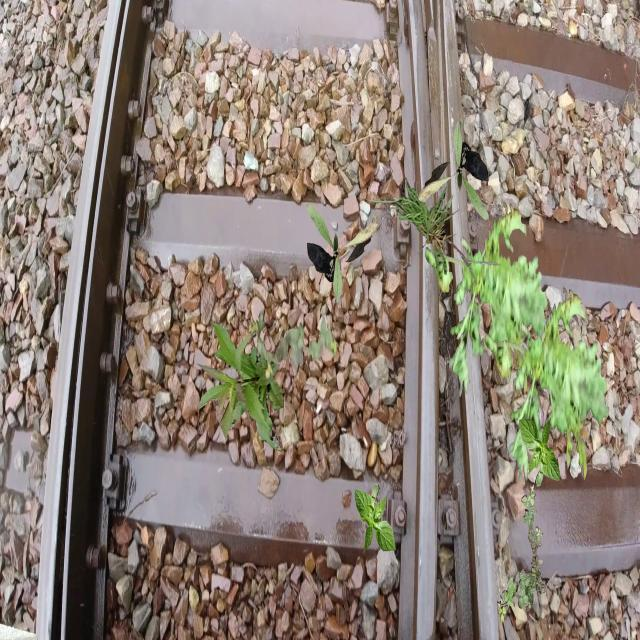Plant: (425, 202, 550, 398), (485, 287, 610, 483), (358, 177, 502, 296), (196, 322, 284, 452), (307, 204, 378, 304), (417, 121, 488, 220), (497, 484, 546, 622), (251, 311, 338, 379), (355, 483, 397, 554), (519, 416, 560, 487)
